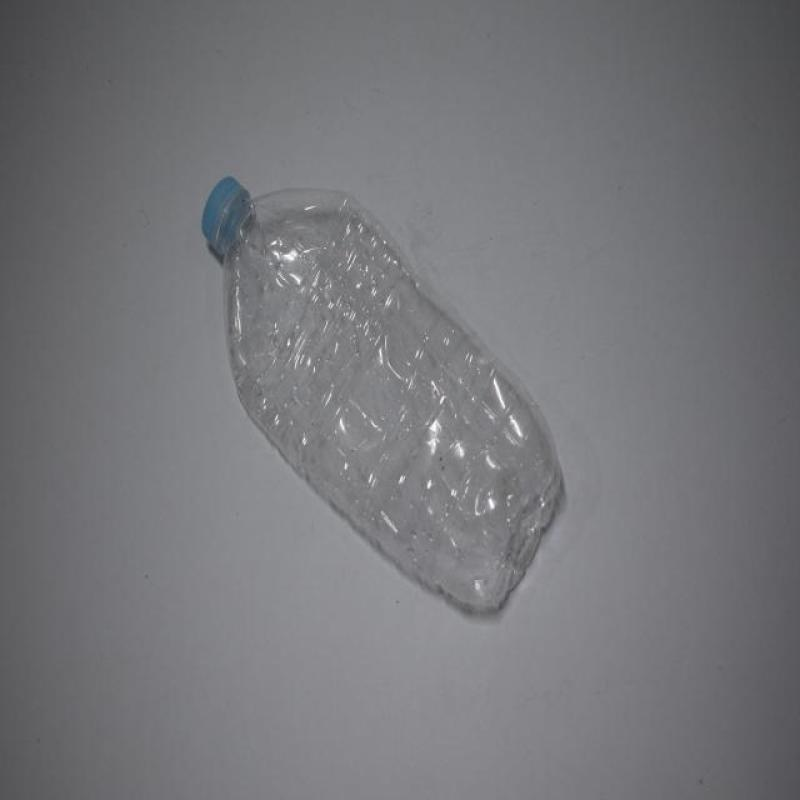botella: (200, 174, 564, 620)
